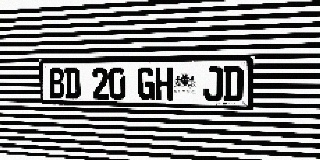0: (108, 67, 126, 100)
2: (92, 67, 109, 99)
B: (49, 68, 65, 99)
D: (223, 66, 243, 102), (64, 68, 80, 99)
G: (137, 67, 155, 100)
H: (155, 67, 173, 101)
J: (203, 66, 223, 101)
